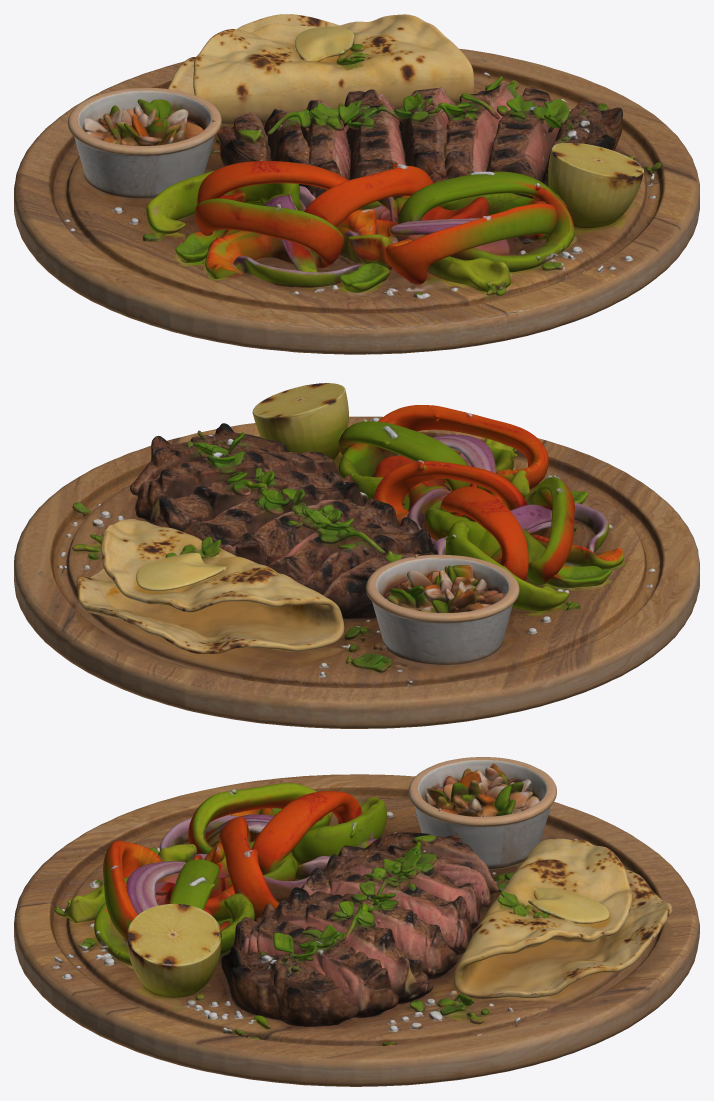
File: realistic-grilled-steak.glb
3 views of the same model, one above another, from view 1: azimuth 30°, elevation 25°; view 2: azimuth 150°, elevation 25°; view 3: azimuth 270°, elevation 25° (orthographic).
Visible parts, largest first — view 1: tripo_node_e447d93a-8b84-42bb-8aa0-3b1d7ea434a4; view 2: tripo_node_e447d93a-8b84-42bb-8aa0-3b1d7ea434a4; view 3: tripo_node_e447d93a-8b84-42bb-8aa0-3b1d7ea434a4.
Boxes of the visible parts, x1,y1,x2,y2 form: tripo_node_e447d93a-8b84-42bb-8aa0-3b1d7ea434a4: (14, 14, 699, 354); tripo_node_e447d93a-8b84-42bb-8aa0-3b1d7ea434a4: (14, 383, 699, 728); tripo_node_e447d93a-8b84-42bb-8aa0-3b1d7ea434a4: (14, 757, 699, 1086).
Bounding box in the file's own units: 0.2799 × 0.0428 × 0.28.
Materials: 1 (1 with a texture image).
